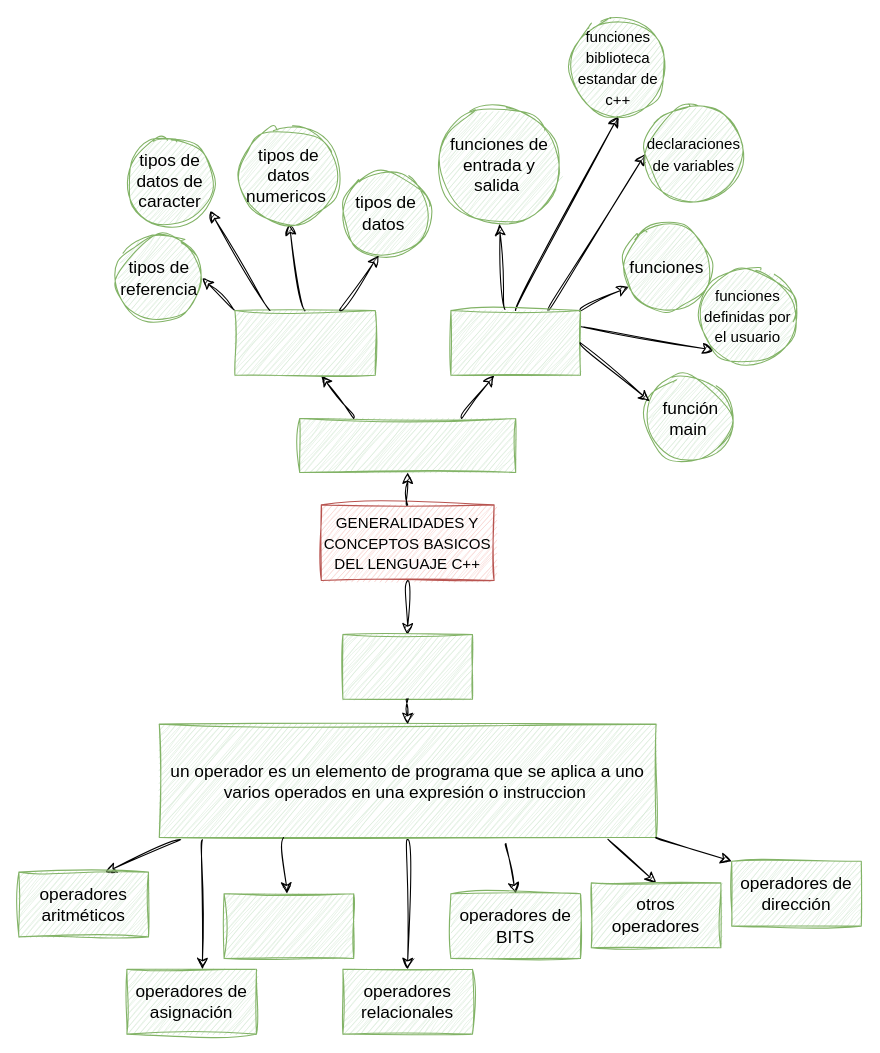
Image size: 880x1053. Some labels were removed from this diagram. The box of each missing label's shape, as (x1, y1, x2, y2) in pixels:
CONSTANTES Y VARIABLES: (450, 309, 580, 375)
ELEMENTOS BASICOS DE LENGUAJES C++: (299, 417, 516, 473)
ESTRUCTURA DE UN PROGRAMA EN C++: (234, 309, 375, 375)
O PERADORES EN C++: (342, 633, 473, 699)
operadores logícos: (223, 893, 354, 959)
